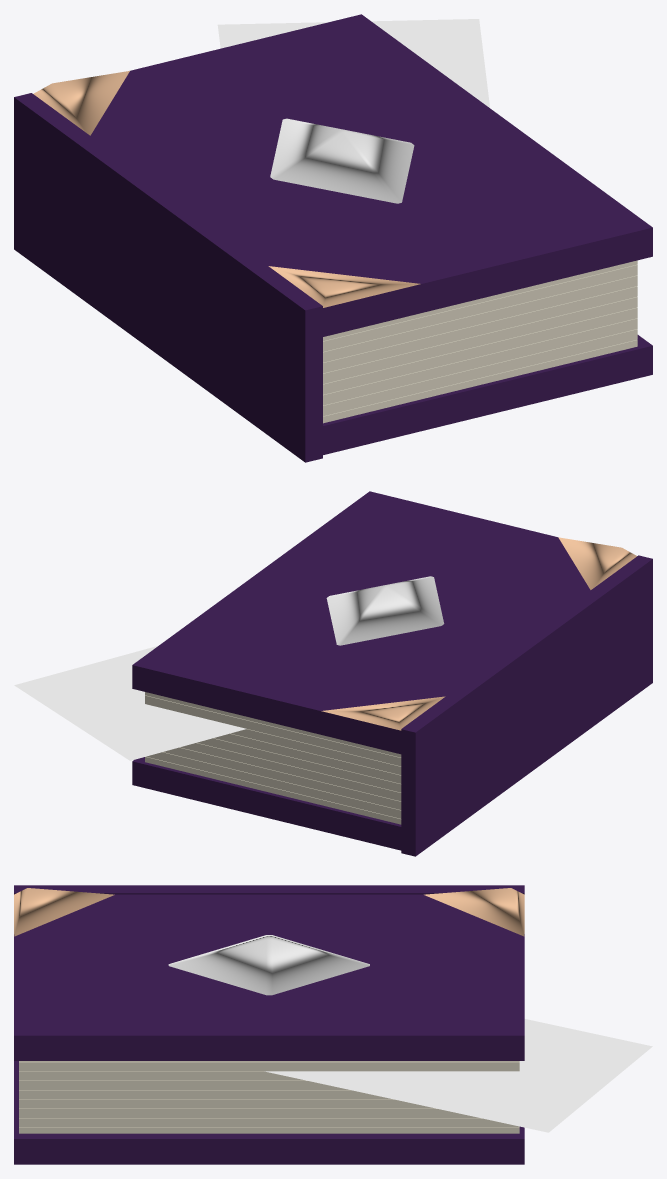
File: grimorio.glb
3 renders of one model, top to bottom at view 1: azimuth 30°, elevation 25°; view 2: azimuth 150°, elevation 25°; view 3: azimuth 270°, elevation 25°, orthographic. The views are drawn at different scales.
Parts seen in each view (by area): view 1: Cube.002, Cube, Cone.001, Plane, Cone.002; view 2: Cube.002, Cube, Plane, Cone.001, Cone.002; view 3: Cube.002, Cube, Plane, Cone.001, Cone.002.
Part boxes in pixels (x1,y1,x2,y2): Cube.002: [14, 14, 652, 462]; Cube: [323, 260, 637, 423]; Cone.001: [270, 118, 414, 203]; Plane: [217, 19, 489, 107]; Cone.002: [33, 71, 420, 307]; Cube.002: [132, 491, 652, 856]; Cube: [145, 692, 401, 824]; Plane: [14, 645, 246, 760]; Cone.001: [326, 576, 444, 645]; Cone.002: [321, 537, 636, 730]; Cube.002: [14, 885, 524, 1164]; Cube: [19, 1061, 519, 1133]; Plane: [264, 1019, 652, 1132]; Cone.001: [168, 935, 369, 995]; Cone.002: [14, 888, 524, 936].
Size of the model in its own units: 1.9 by 0.6829 by 2.5.
